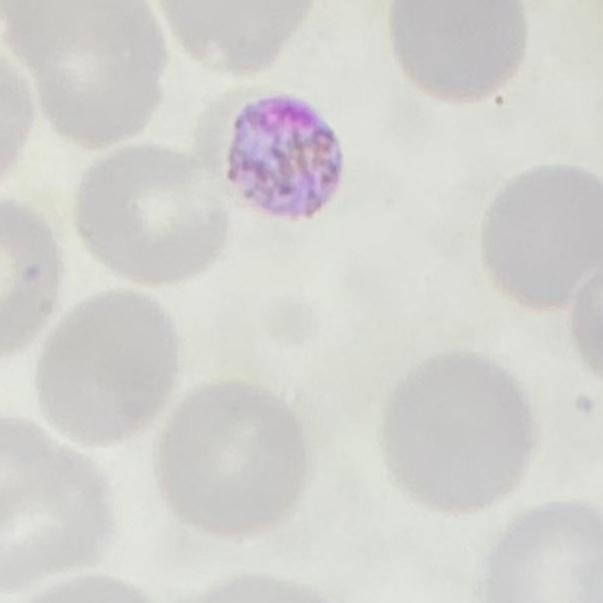Infected: (205, 86, 339, 221)
Uninfected: (378, 352, 529, 514), (158, 381, 309, 540), (8, 0, 167, 146), (72, 142, 225, 285), (35, 296, 176, 450), (0, 419, 114, 587), (483, 169, 603, 313), (385, 0, 526, 100)
